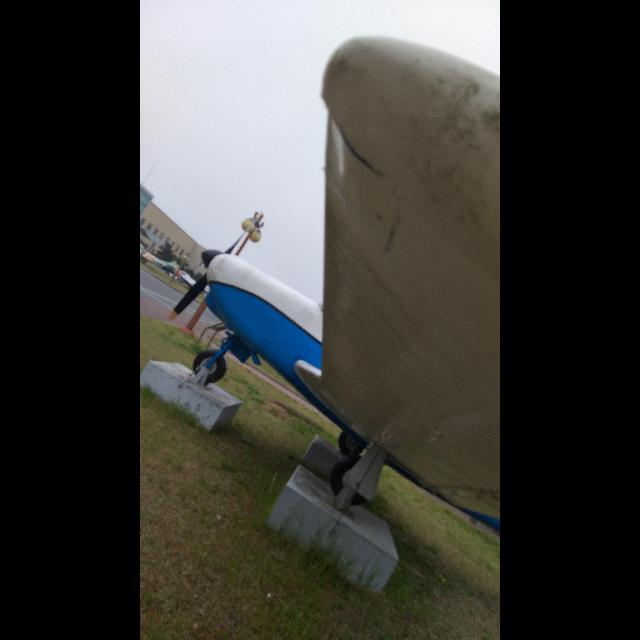dent: (326, 114, 354, 178)
